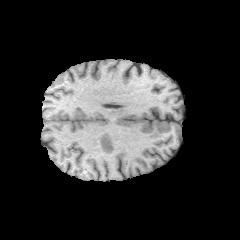glioma: (100, 97, 163, 154)
